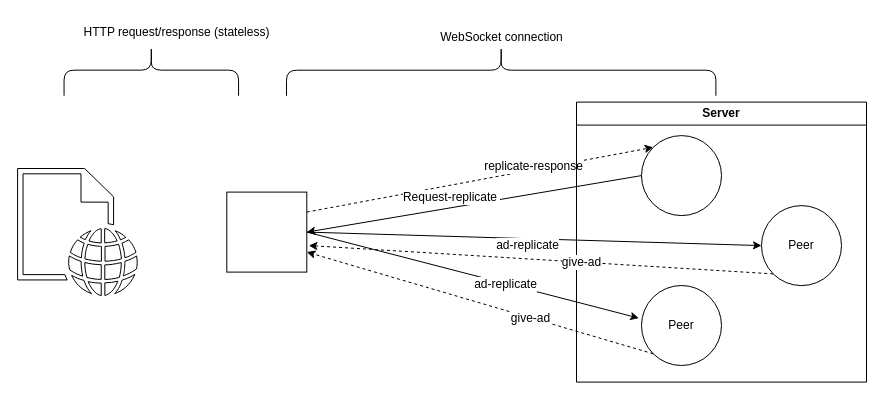
Image size: 884x400. Some labels were removed from this diagram. Each missing label, with the centre of its shape:
Empty Peer: pixel 681 175
Proxy: pixel 266 231
